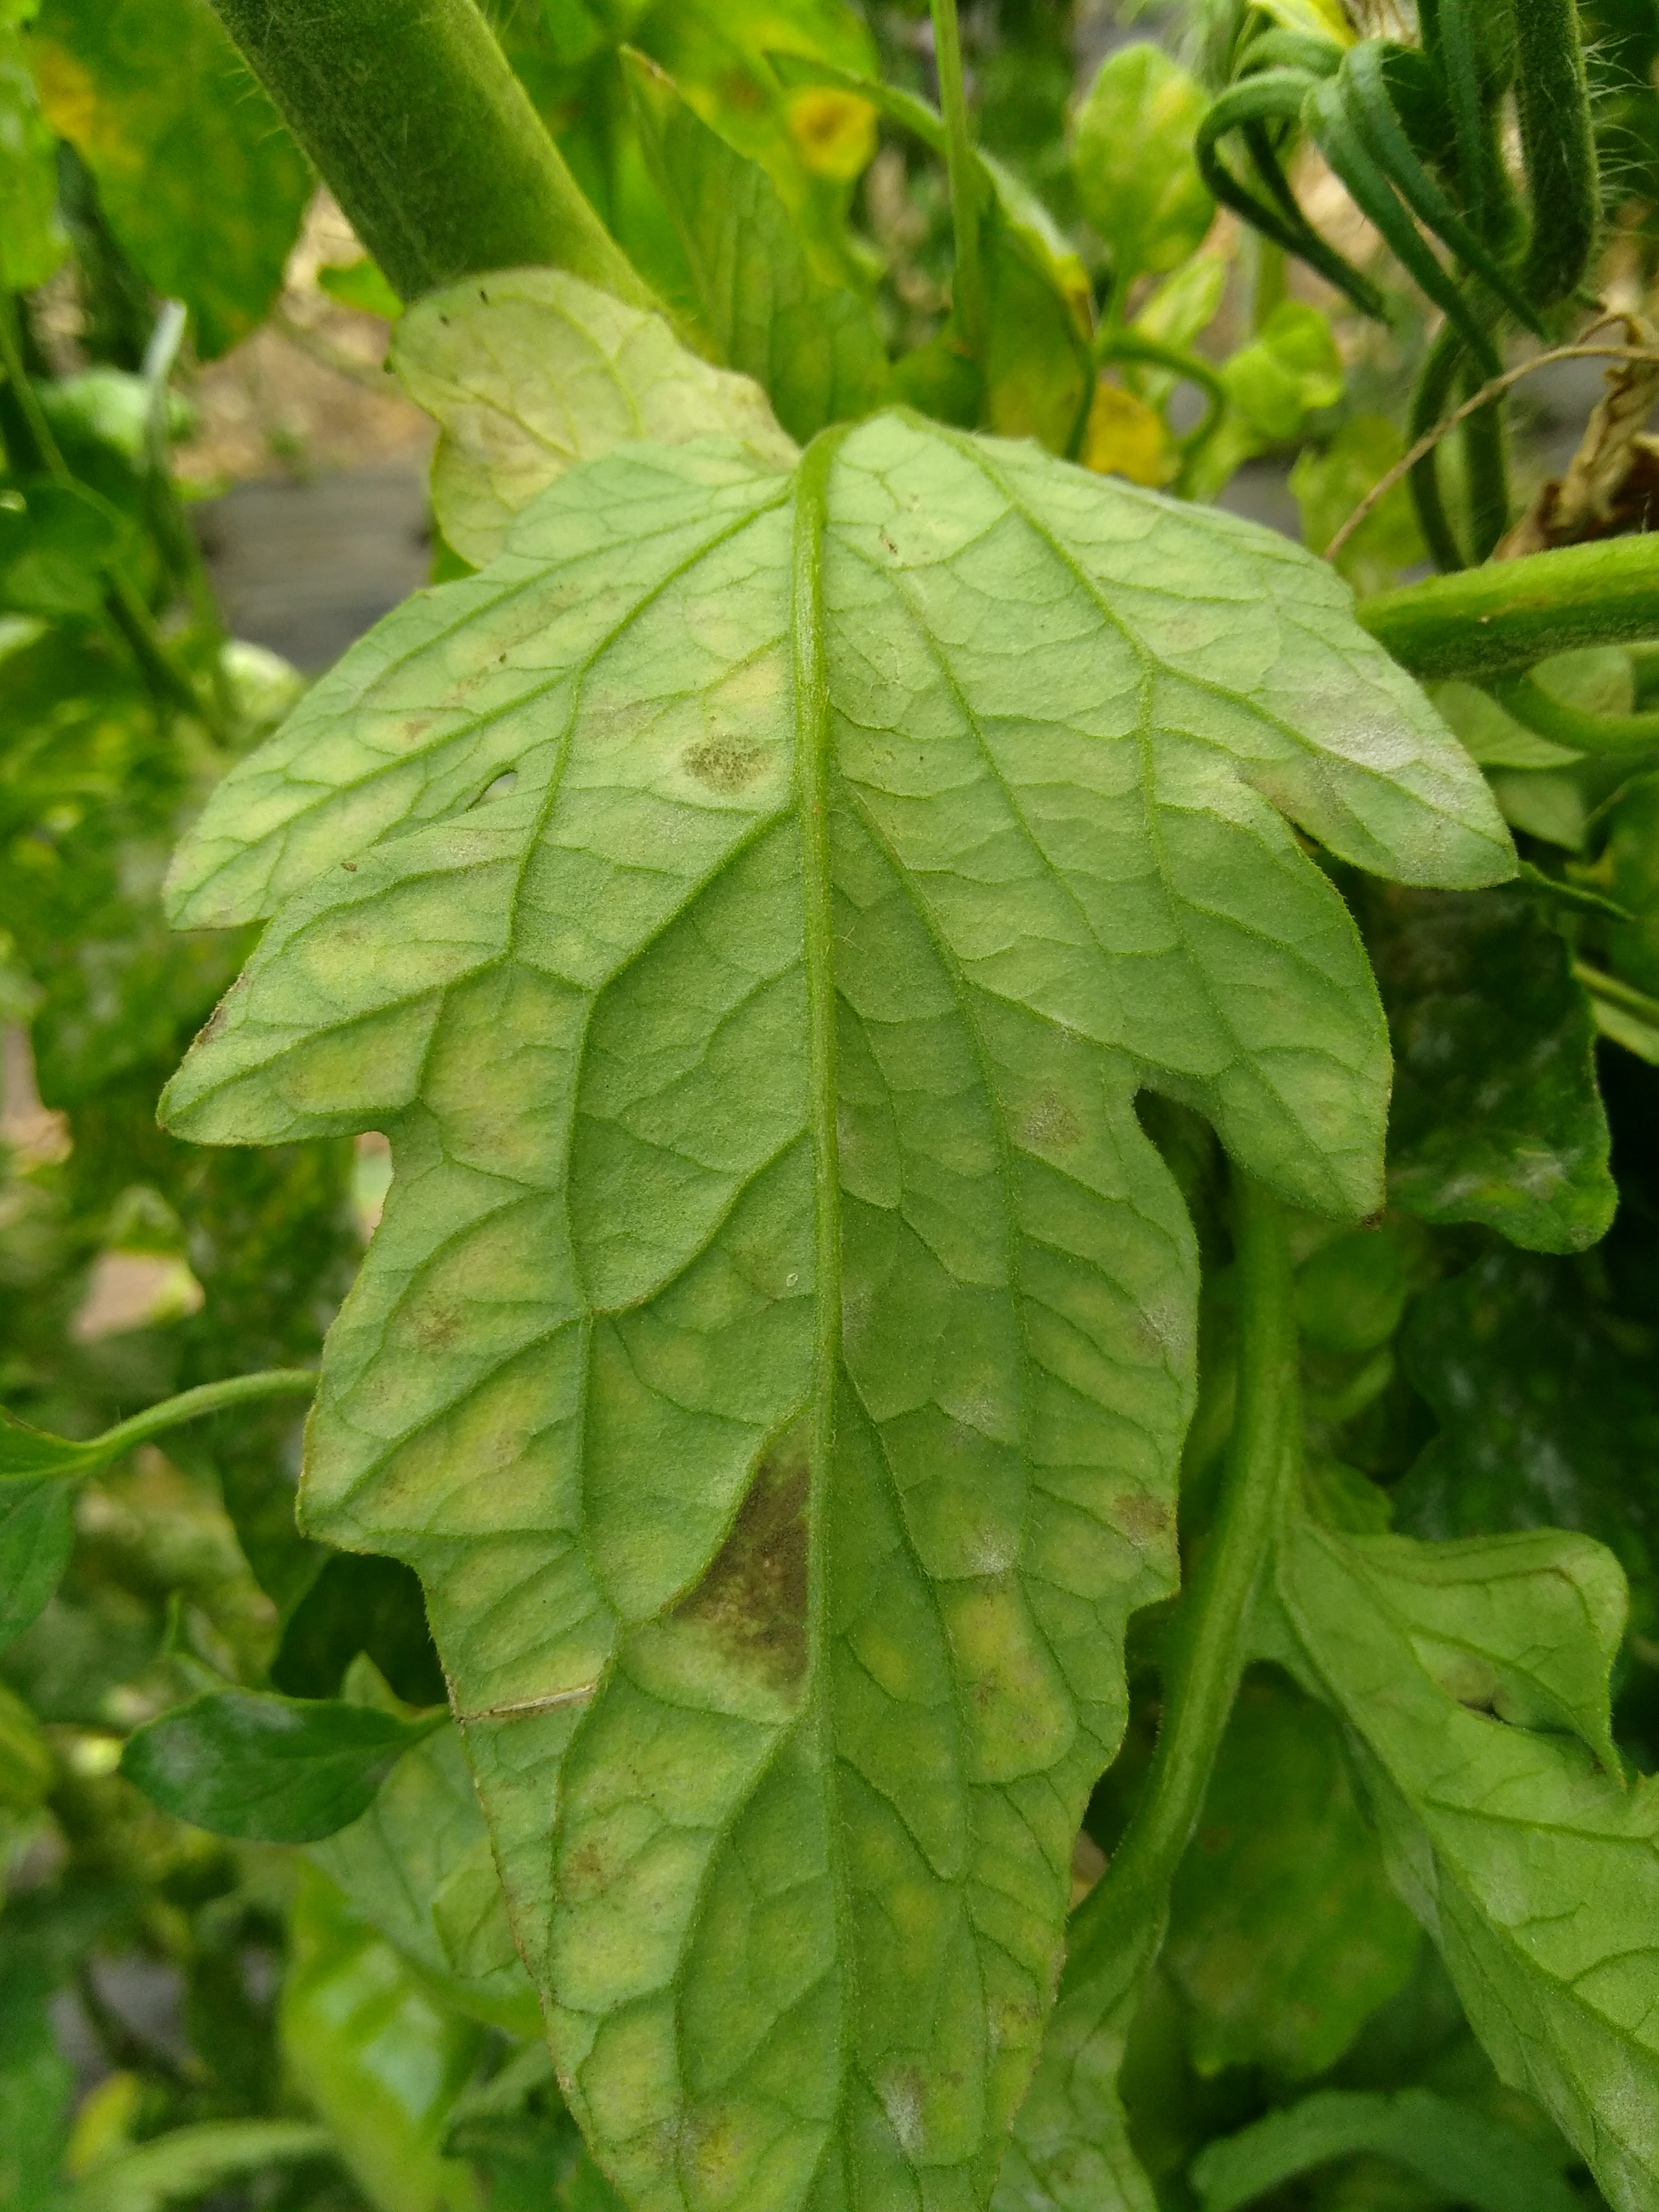negra: (680, 1426, 833, 1683), (690, 726, 779, 815), (1105, 1467, 1173, 1543)
